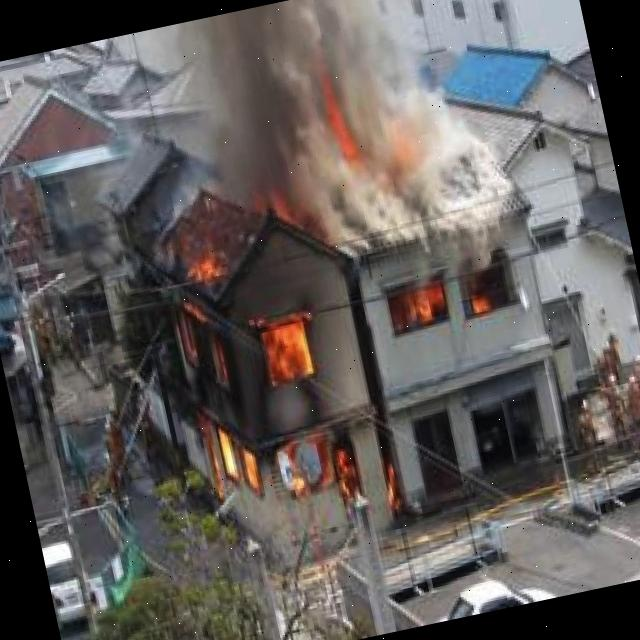fire: (126, 186, 366, 534), (316, 86, 426, 194), (380, 259, 520, 333)
